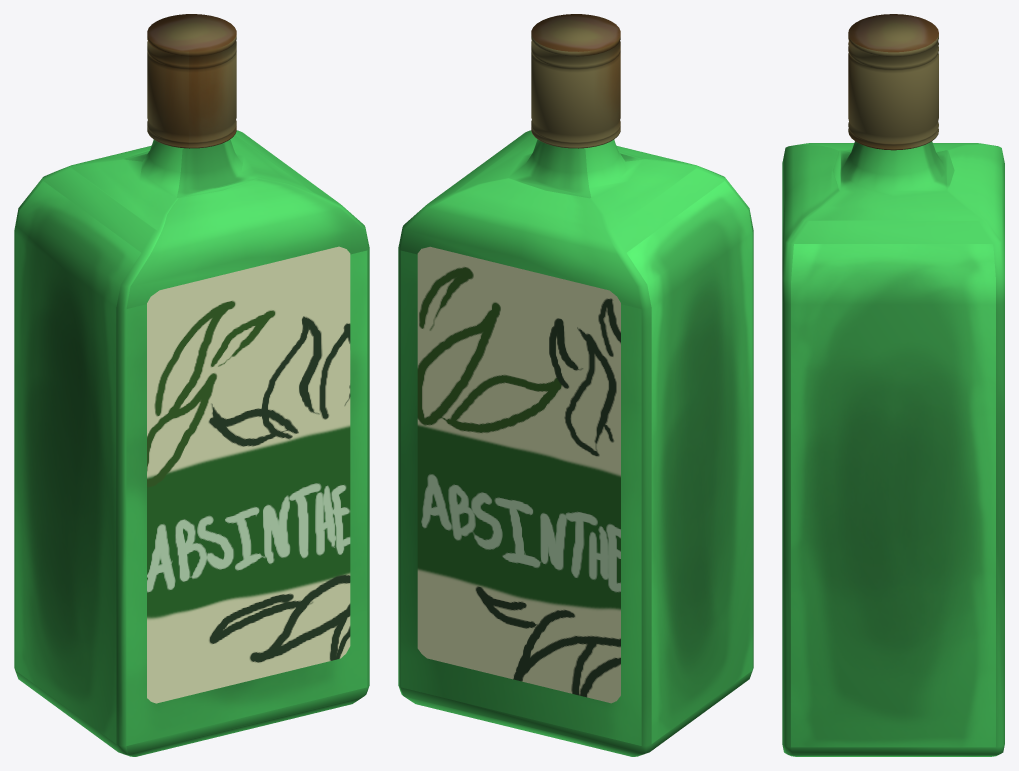
The picture shows the model from 3 angles, left to right: view 1: azimuth 30°, elevation 25°; view 2: azimuth 150°, elevation 25°; view 3: azimuth 270°, elevation 25°; orthographic projection.
Visible parts, largest first — view 1: Jager; view 2: Jager; view 3: Jager.
Boxes of the visible parts, x1,y1,x2,y2 form: Jager: [14, 14, 369, 756]; Jager: [398, 14, 753, 756]; Jager: [782, 14, 1004, 756].
Bounding box in the file's own units: 174 × 435 × 131.
